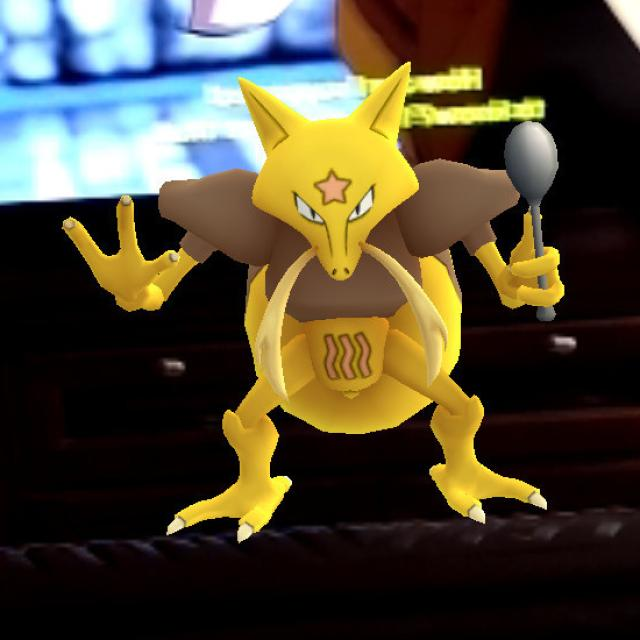Kadabra: (155, 67, 532, 550)
